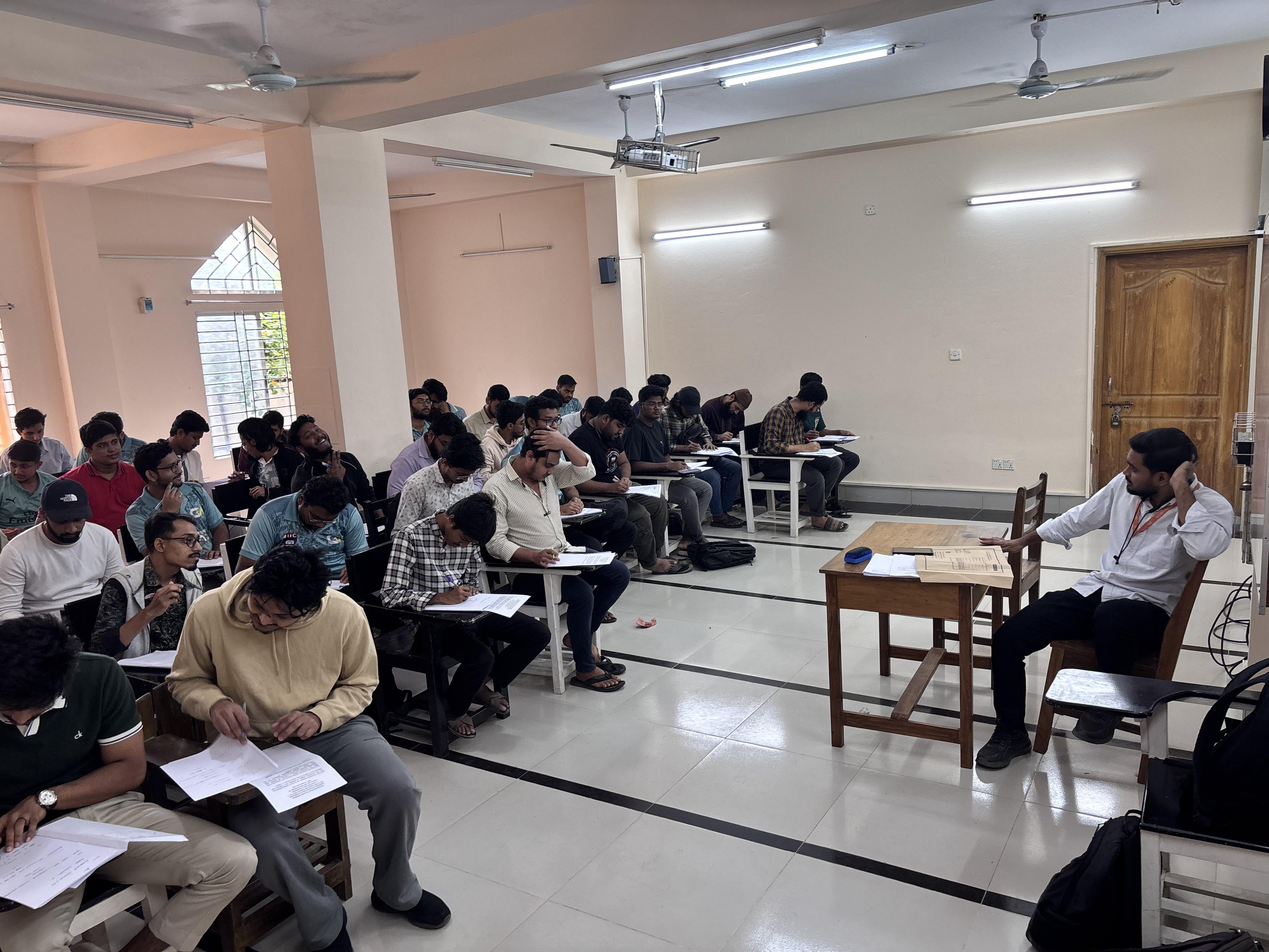copying: (186, 561, 401, 900), (222, 418, 295, 496)
invigilator: (1024, 413, 1232, 716)
no_cheating: (0, 611, 163, 951), (390, 505, 525, 689), (493, 429, 619, 617), (11, 488, 127, 645), (113, 513, 238, 654), (260, 478, 386, 580), (402, 443, 523, 532), (585, 405, 645, 543), (761, 384, 839, 487), (137, 438, 220, 531), (634, 379, 676, 527), (170, 405, 239, 485), (74, 421, 139, 495), (671, 383, 709, 497), (403, 424, 471, 475), (14, 407, 61, 471), (713, 385, 751, 454), (555, 372, 592, 435), (483, 408, 527, 456), (411, 391, 436, 430)
side_talking: (283, 412, 363, 493)
suspicious_moving: (0, 441, 66, 520)
